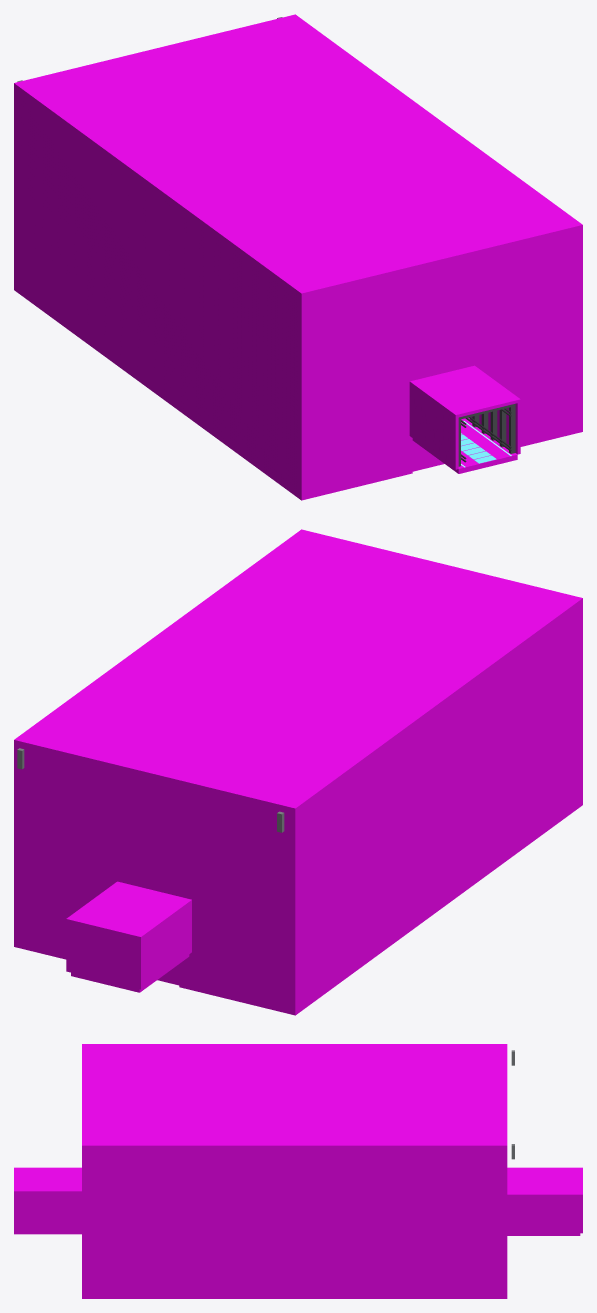
The model's file is wing1-cargo.glb.
The picture shows the model from 3 angles, top to bottom: view 1: azimuth 30°, elevation 25°; view 2: azimuth 150°, elevation 25°; view 3: azimuth 270°, elevation 25°; orthographic projection. The views are drawn at different scales.
Visible parts, largest first — view 1: COL_Wing1, W1_Corridor; view 2: COL_Wing1; view 3: COL_Wing1.
Part boxes in pixels (x1=…): COL_Wing1: x1=14, y1=14, x2=582, y2=500; W1_Corridor: x1=458, y1=403, x2=515, y2=467; COL_Wing1: x1=14, y1=529, x2=582, y2=1015; COL_Wing1: x1=14, y1=1044, x2=582, y2=1298.
Bounding box in the file's own units: 28.6 × 20.1 × 67.7.
